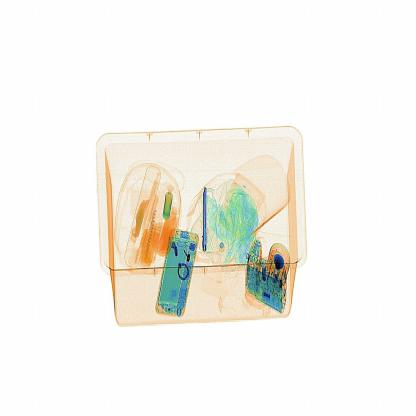pliers: (197, 180, 221, 260)
